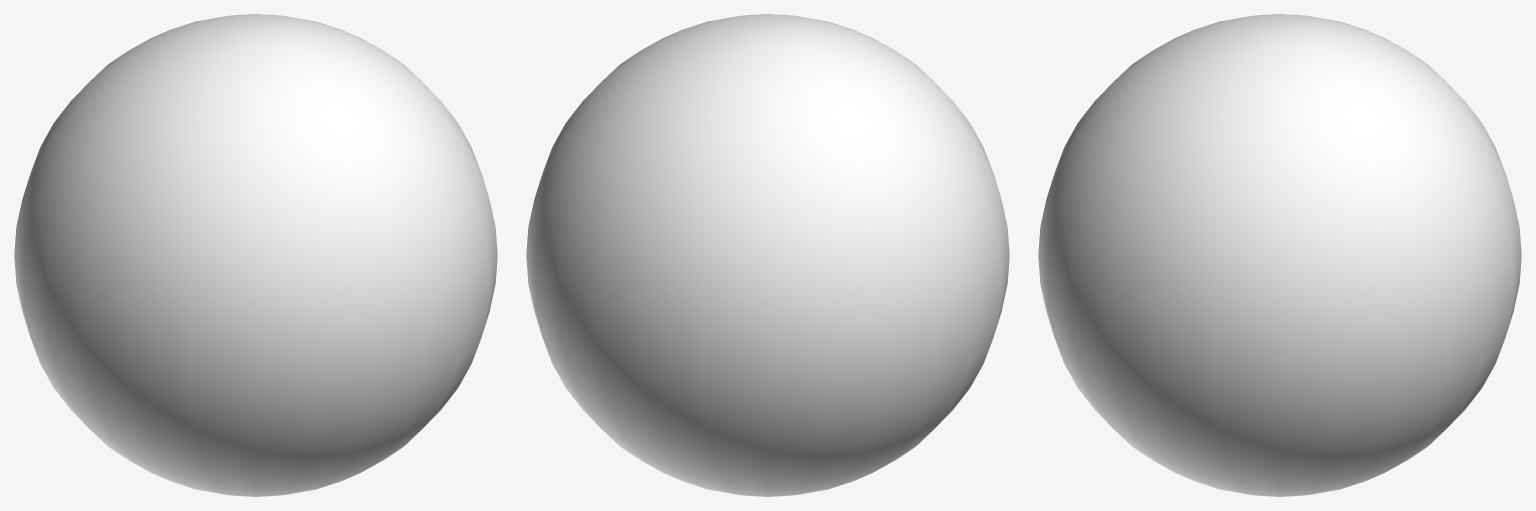
File: white.glb
3 views of the same model, side by side, from view 1: azimuth 30°, elevation 25°; view 2: azimuth 150°, elevation 25°; view 3: azimuth 270°, elevation 25° (orthographic).
Visible parts, largest first — view 1: node_id5; view 2: node_id5; view 3: node_id5.
Boxes of the visible parts, box(x1,y1,x2,y2) form: node_id5: box(14, 14, 497, 496); node_id5: box(526, 14, 1009, 496); node_id5: box(1038, 14, 1521, 496).
Bounding box in the file's own units: 0.512 × 0.512 × 0.512.
Materials: 1 (1 with a texture image).
